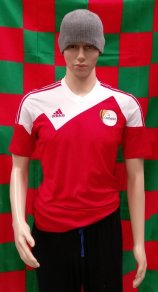player: (11, 1, 145, 280)
